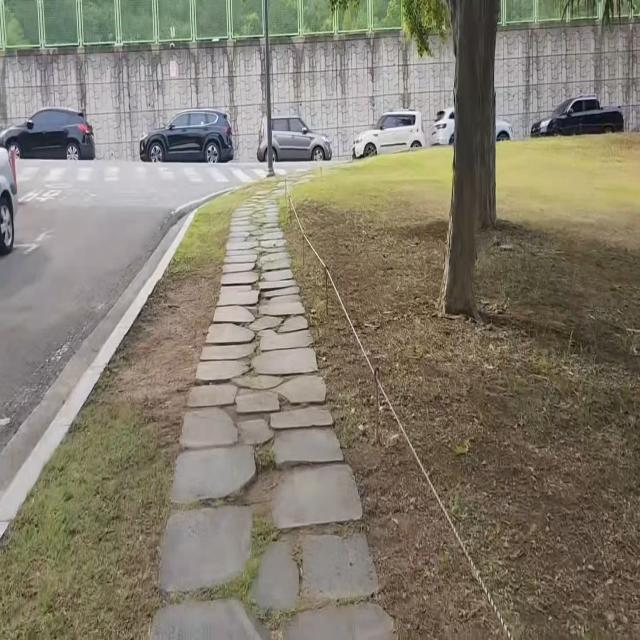obstacle: (249, 101, 430, 166), (132, 102, 241, 175), (0, 95, 98, 166), (527, 95, 632, 148), (0, 133, 20, 253)
